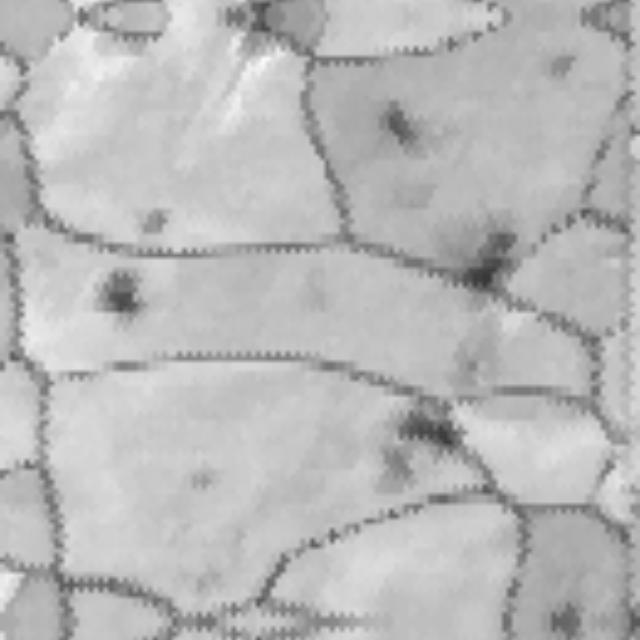good_void: (443, 233, 521, 294), (394, 403, 468, 453), (94, 268, 148, 317), (371, 104, 429, 148), (136, 205, 179, 239), (547, 52, 577, 86)
